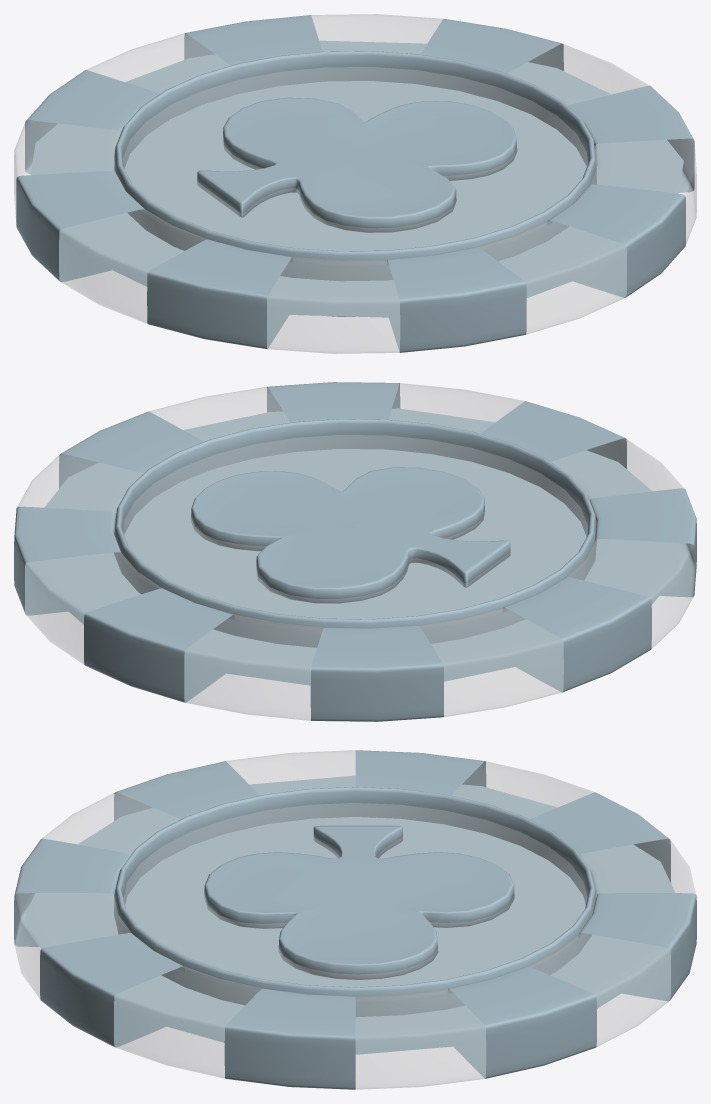
Rendered from pokerassets.glb.
The picture shows the model from 3 angles, top to bottom: view 1: azimuth 30°, elevation 25°; view 2: azimuth 150°, elevation 25°; view 3: azimuth 270°, elevation 25°; orthographic projection.
Parts seen in each view (by area): view 1: Cylinder; view 2: Cylinder; view 3: Cylinder.
Part boxes in pixels (x1,y1,x2,y2): Cylinder: [14, 14, 696, 353]; Cylinder: [14, 382, 696, 721]; Cylinder: [14, 750, 696, 1089].
Size of the model in its own units: 2.79 by 0.2935 by 2.79.
